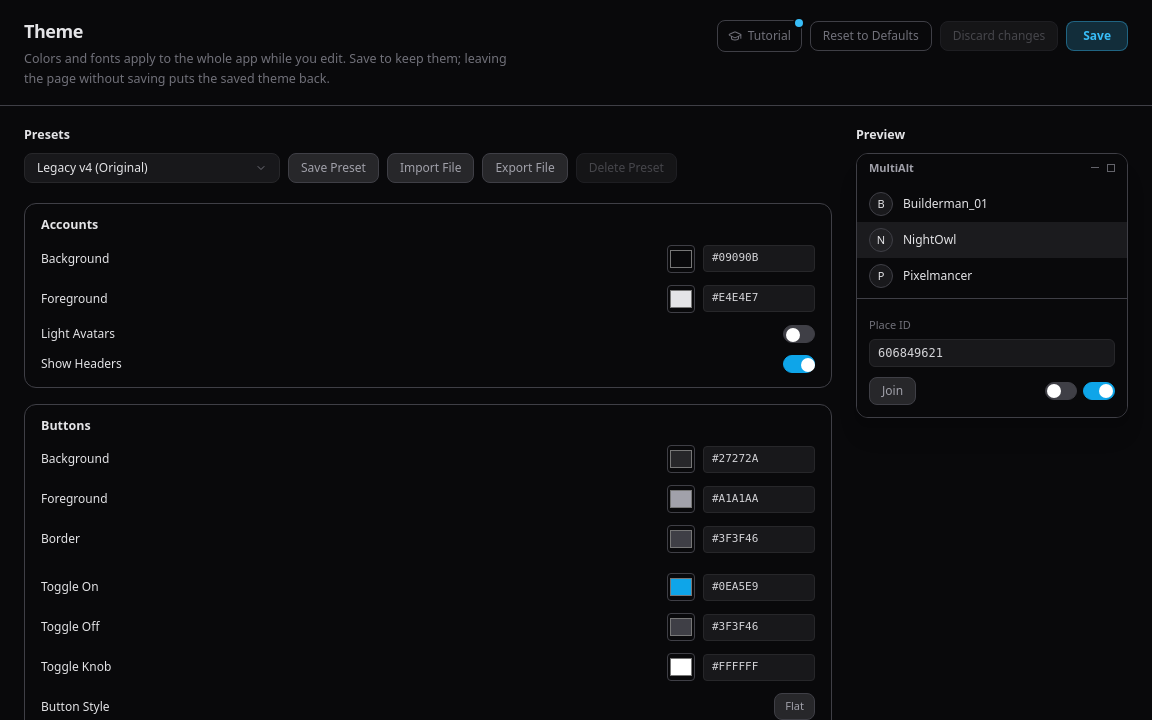
Scenario: ThemePage — page behaviour › discards the changes without leaving the page
Expected: the button "Discard changes" is disabled, [940,21,1058,51]
What coordinates should you click on to do the following:
click the button named "Light Avatars"
I would click on:
 (799, 334)
Its box is [783,325,815,343].
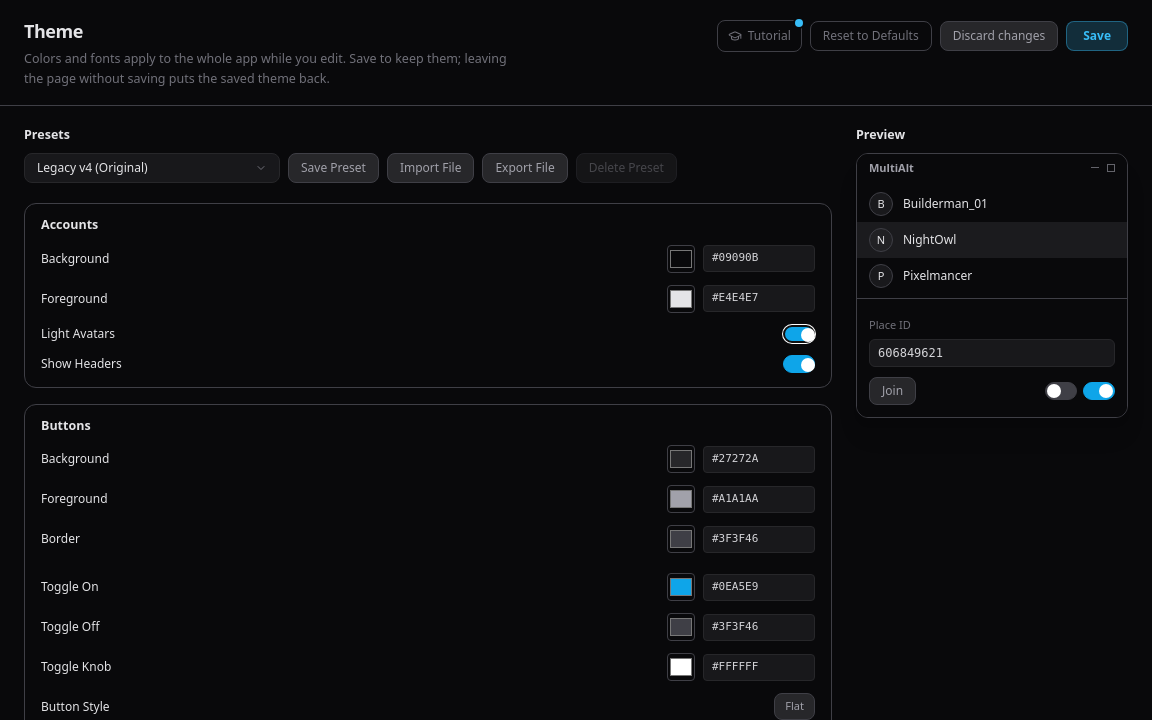
Expected: the button "Discard changes" is enabled
What coordinates should you click on to do the following:
click the button "Discard changes"
I would click on:
 (999, 36)
Its box is [940,21,1058,51].
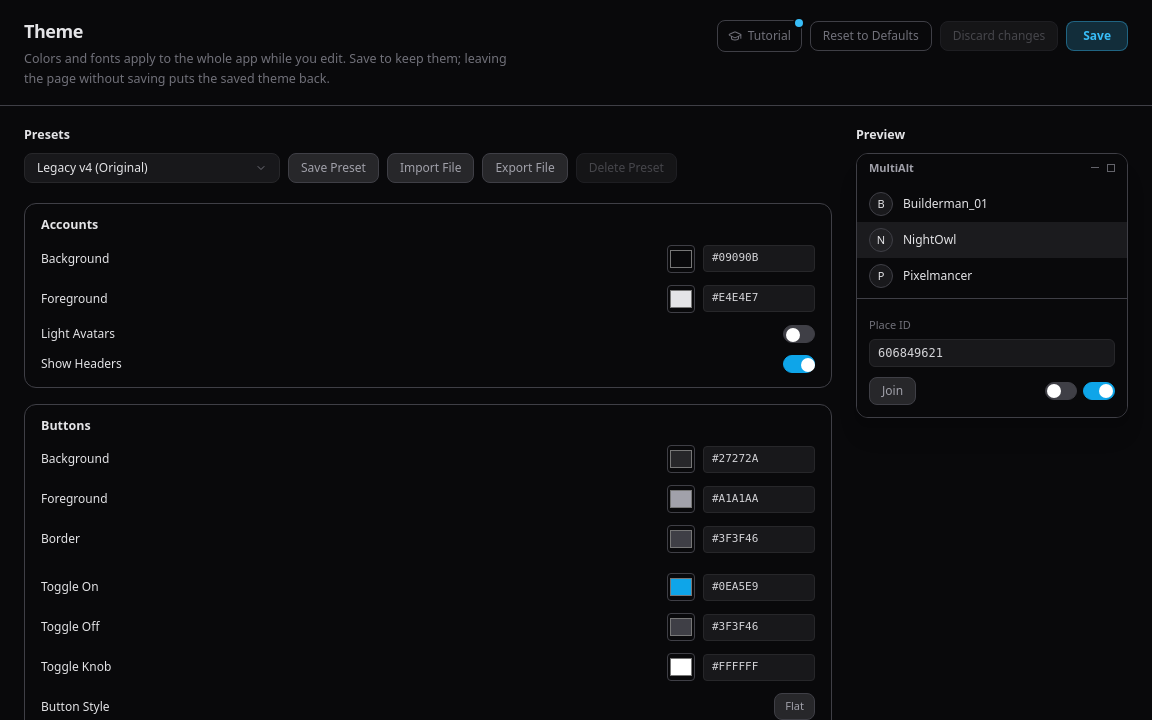
Expected: the button "Discard changes" is disabled, [940,21,1058,51]
